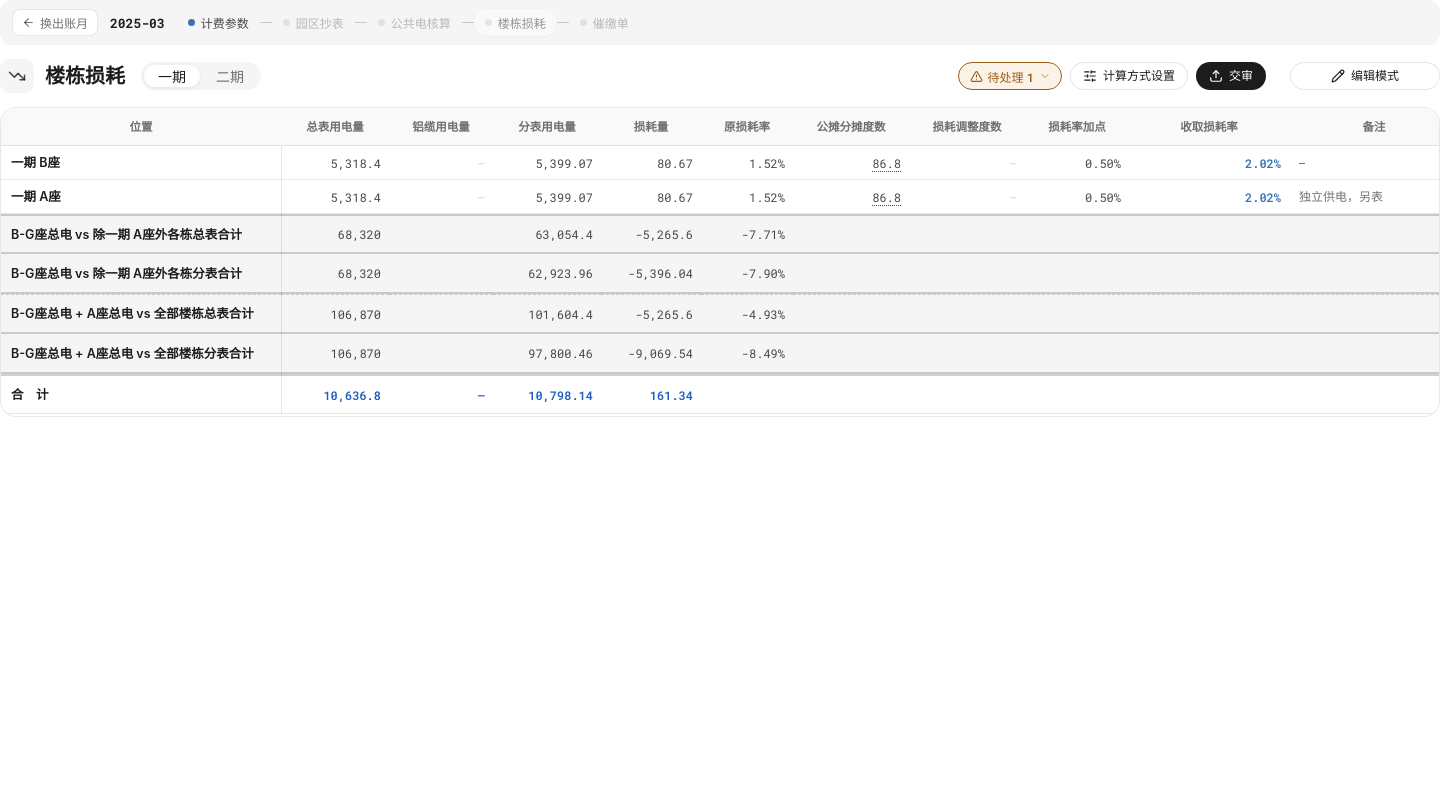
Test: 楼栋损耗 · 屏上的字 › 告警组叫「待重算」(LAYOUT-STABILITY §4,与公共电核算同名),不再叫「快照过期」
Click the button with class "fac": (1010, 76) x1=958 y1=62 x2=1062 y2=90
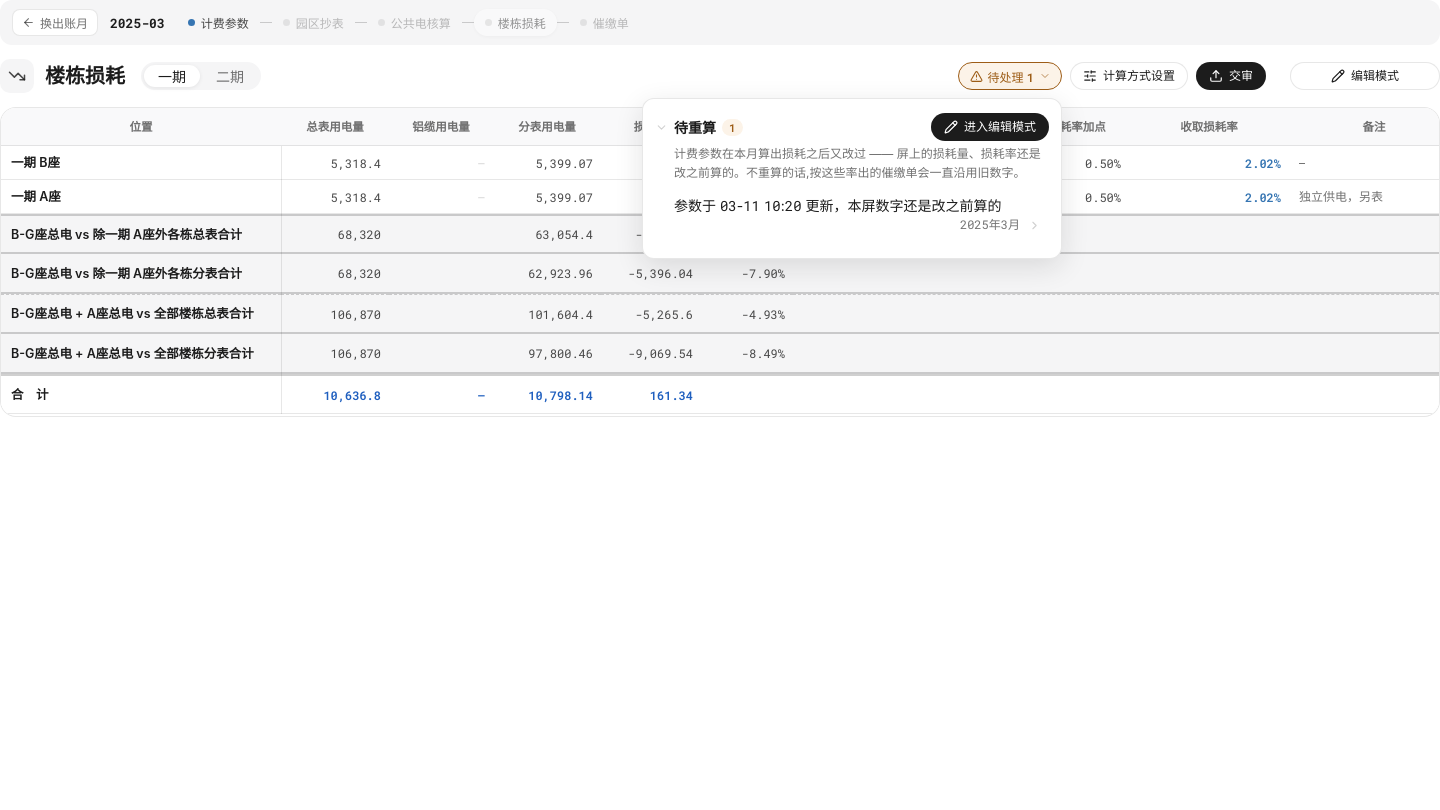
Expected: the text "待重算" is shown, x1=674 y1=117 x2=716 y2=137
Expected: the text "本屏数字还是改之前算的" is shown, x1=674 y1=197 x2=1002 y2=214
